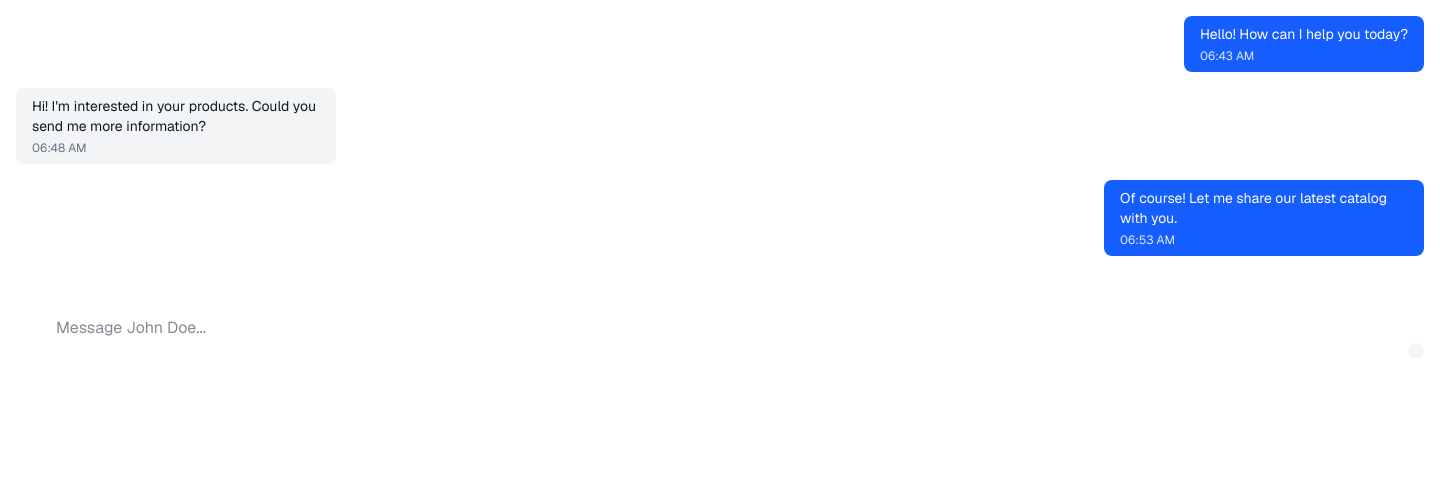
Messaging Components › EnhancedMessageInterface - Accessibility › should announce message sending status to screen readers
The image size is (1440, 488).
Step 1. Type "Test message" into the text box with placeholder "Message John Doe..." → (720, 328), box [40,304,1400,352]
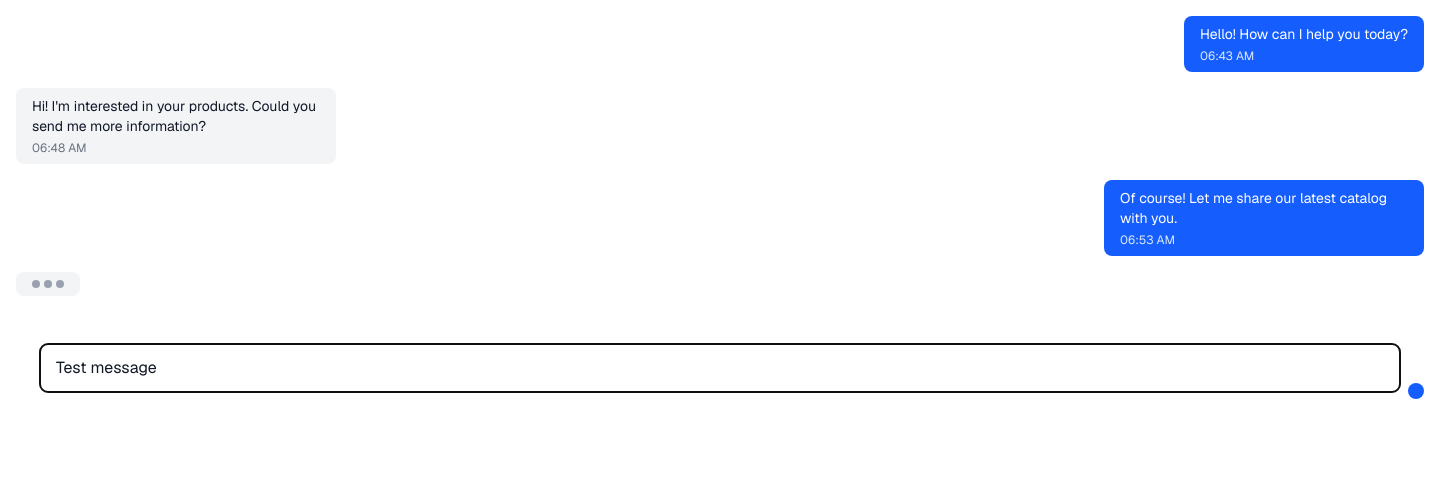
Step 2. Click the button titled "send message" → (1416, 391), box [1408,383,1424,399]
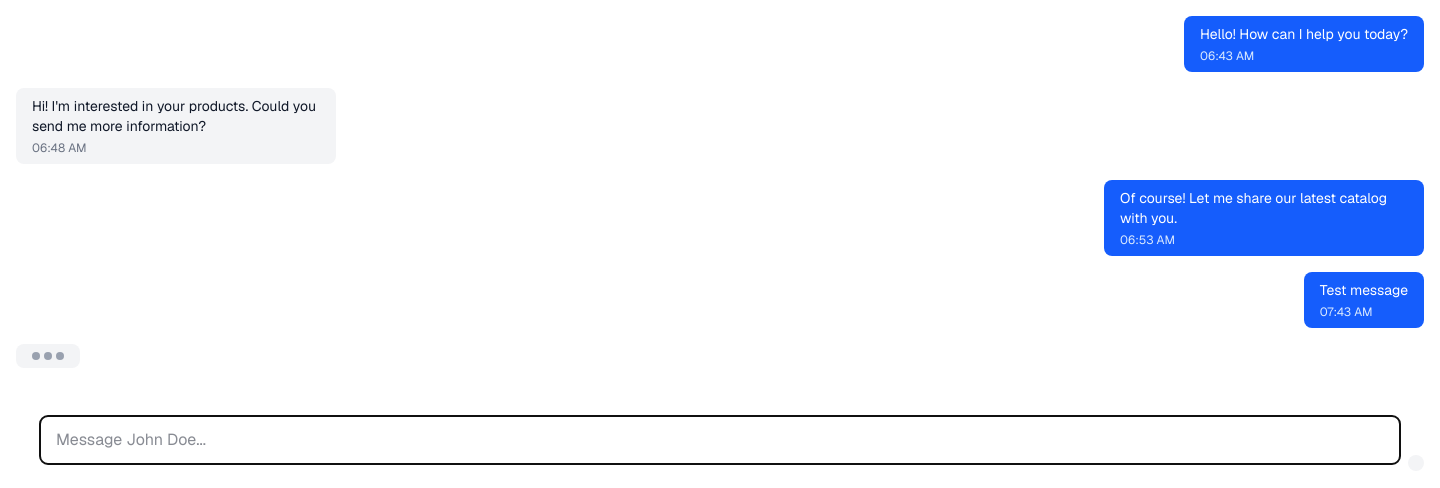
Now the text "Test message" is shown, box [1320,280,1408,300]
